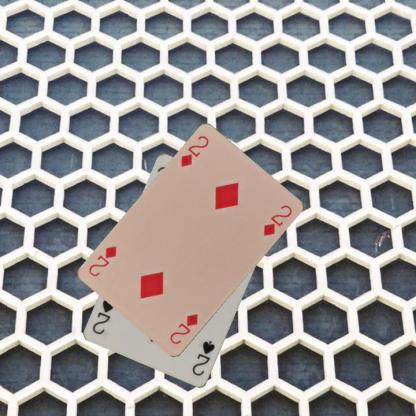2d: (167, 311, 200, 346), (178, 133, 210, 169)
2s: (190, 338, 216, 378)
